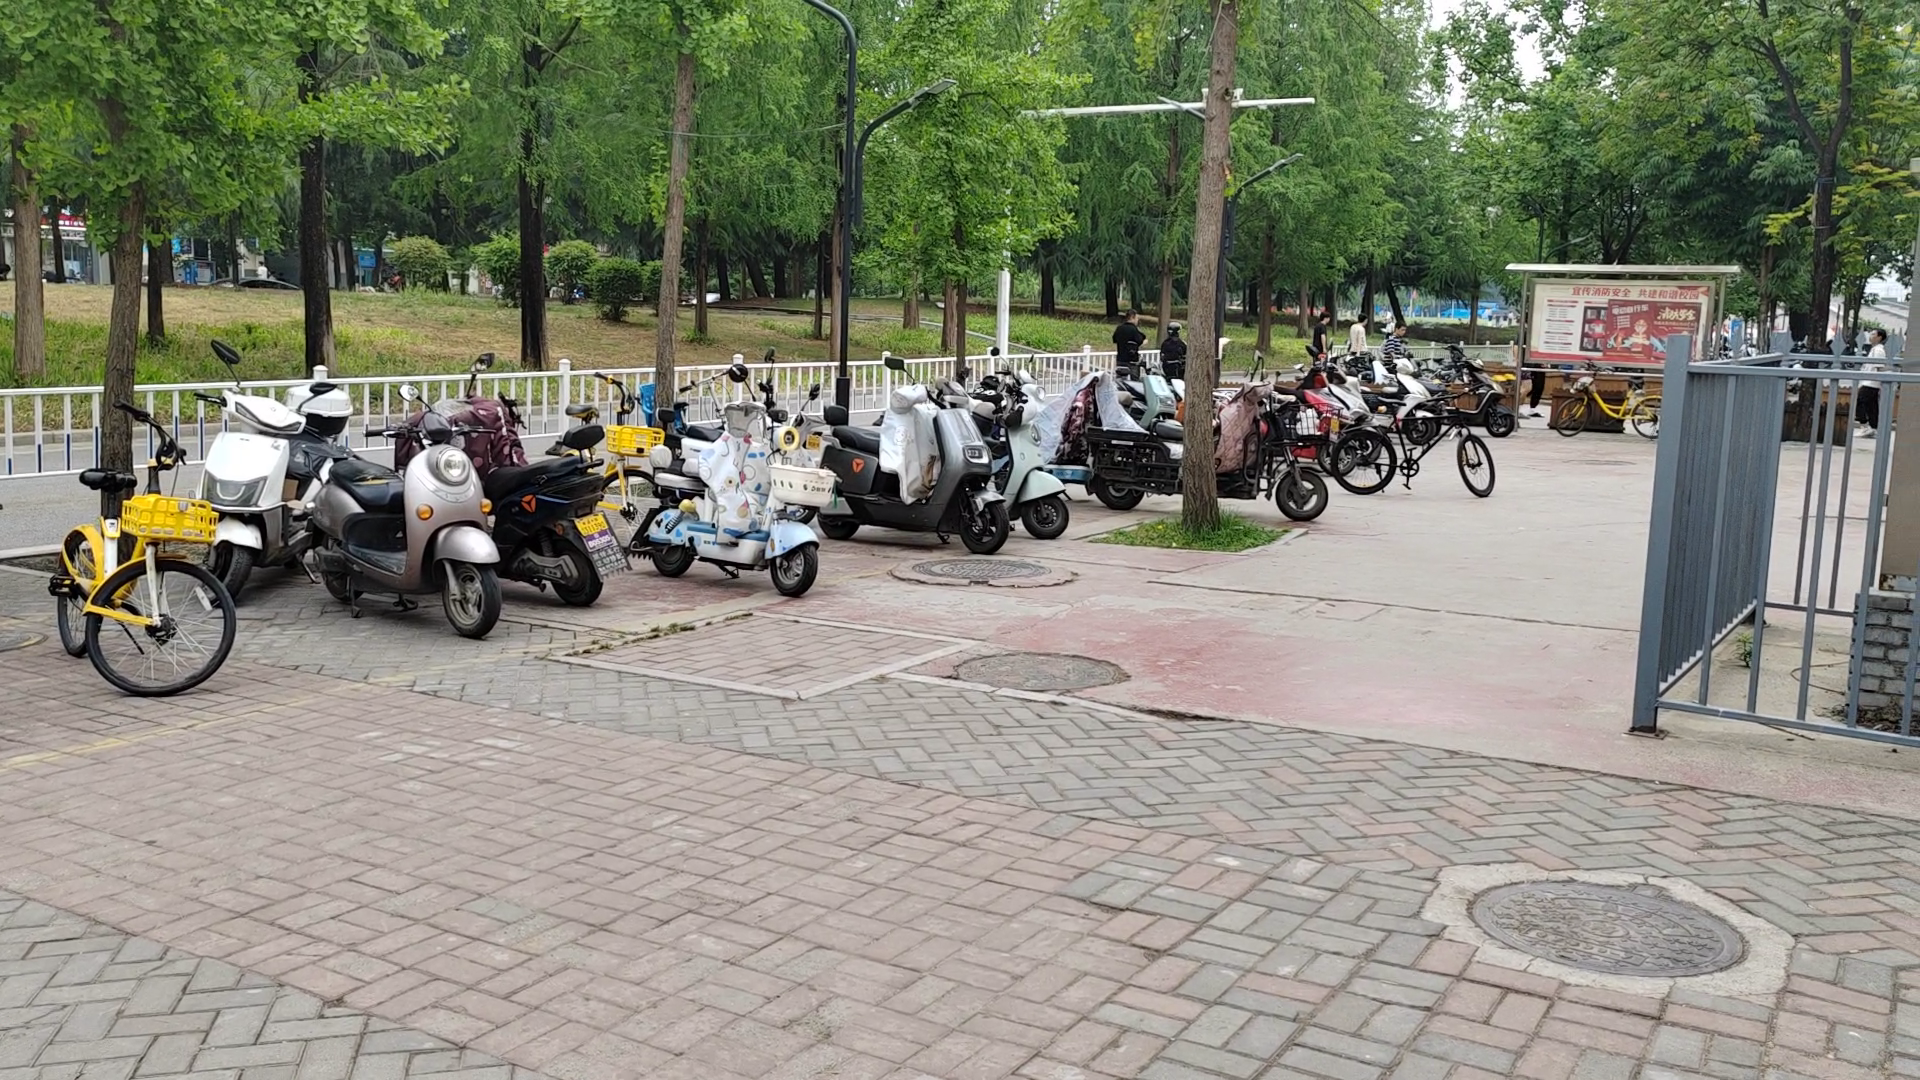others: (388, 365, 603, 618), (314, 371, 489, 651), (190, 320, 351, 593), (1093, 371, 1336, 546), (822, 359, 1015, 574), (663, 369, 836, 607), (992, 347, 1091, 543), (1329, 380, 1490, 496), (1553, 340, 1673, 447)
shared_bike_meituan: (40, 375, 227, 696), (564, 364, 671, 547)
